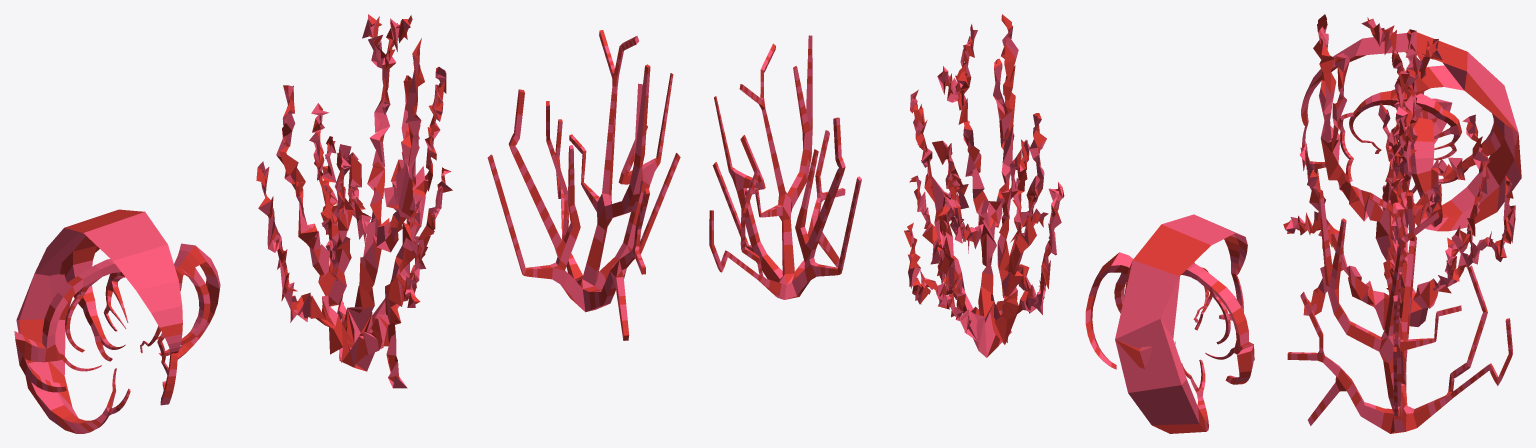
The model's file is CoralSet_02.fbx.
3 renders of one model, left to right at view 1: azimuth 30°, elevation 25°; view 2: azimuth 150°, elevation 25°; view 3: azimuth 270°, elevation 25°, orthographic. The views are drawn at different scales.
Visible parts, largest first — view 1: Coral_B_02, Coral_B_03, Coral_B_01; view 2: Coral_B_02, Coral_B_03, Coral_B_01; view 3: Coral_B_02, Coral_B_03, Coral_B_01.
Boxes of the visible parts, x1,y1,x2,y2 form: Coral_B_02: [256, 14, 452, 388]; Coral_B_03: [14, 209, 220, 433]; Coral_B_01: [487, 30, 680, 340]; Coral_B_02: [904, 14, 1064, 357]; Coral_B_03: [1085, 214, 1254, 433]; Coral_B_01: [709, 35, 861, 299]; Coral_B_02: [1283, 14, 1515, 329]; Coral_B_03: [1301, 32, 1521, 231]; Coral_B_01: [1287, 190, 1512, 433].
Bounding box in the file's own units: 1589 × 875 × 548.
